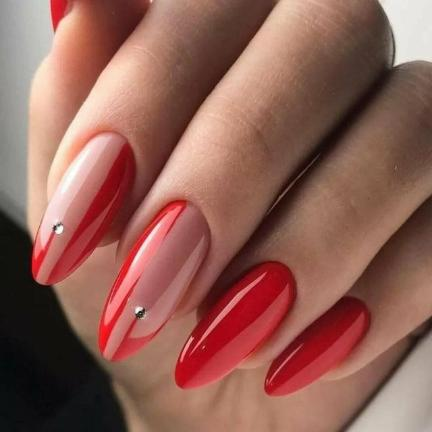Nail: (97, 200, 213, 362), (30, 132, 137, 286), (173, 261, 298, 392), (263, 296, 372, 398)
